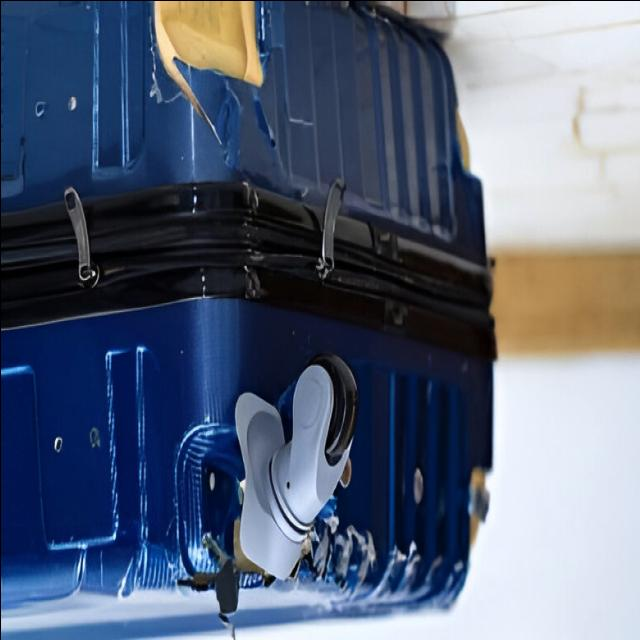Damage-bag: (169, 422, 376, 622), (145, 1, 306, 168), (380, 542, 420, 591), (469, 467, 489, 544), (454, 107, 469, 172), (30, 95, 58, 125), (389, 16, 424, 37), (59, 87, 79, 117), (88, 426, 101, 451), (490, 321, 495, 359), (51, 436, 62, 453), (350, 3, 362, 12)
